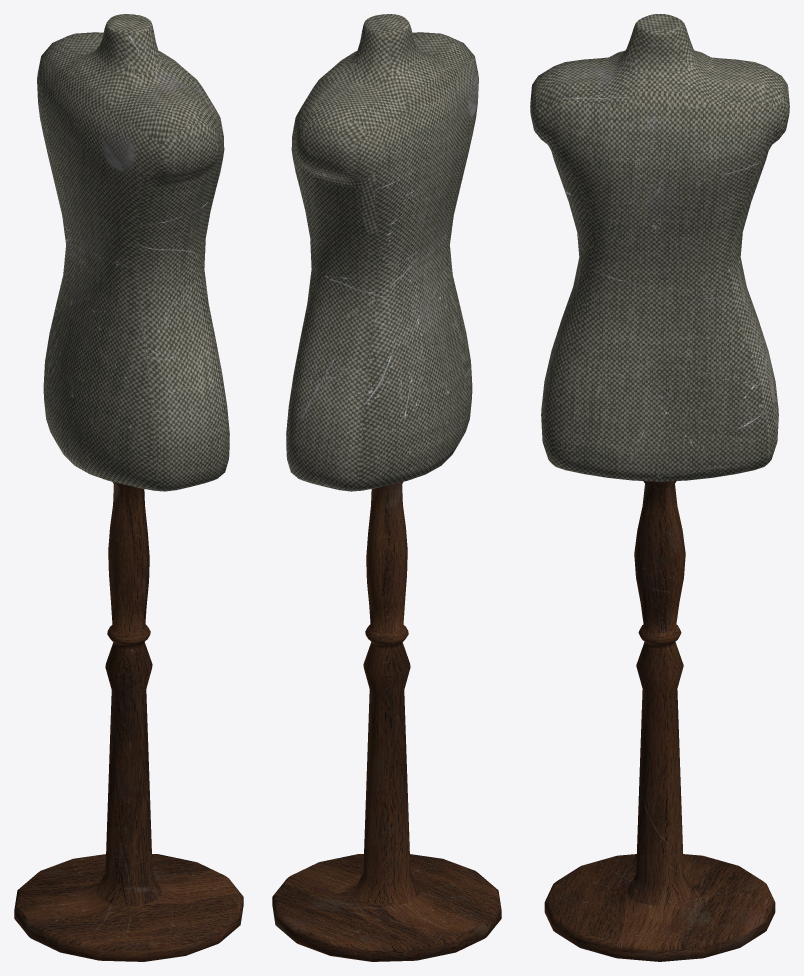
The model's file is mannequin_torso.glb.
3 views of the same model, side by side, from view 1: azimuth 30°, elevation 25°; view 2: azimuth 150°, elevation 25°; view 3: azimuth 270°, elevation 25° (orthographic).
Visible parts, largest first — view 1: mannequin_w; view 2: mannequin_w; view 3: mannequin_w.
Part boxes in pixels (x1,y1,x2,y2): mannequin_w: (14, 14, 243, 961); mannequin_w: (272, 14, 501, 961); mannequin_w: (530, 14, 789, 961).
Bounding box in the file's own units: 0.3637 × 1.55 × 0.409.
2 materials, 2 textured.
